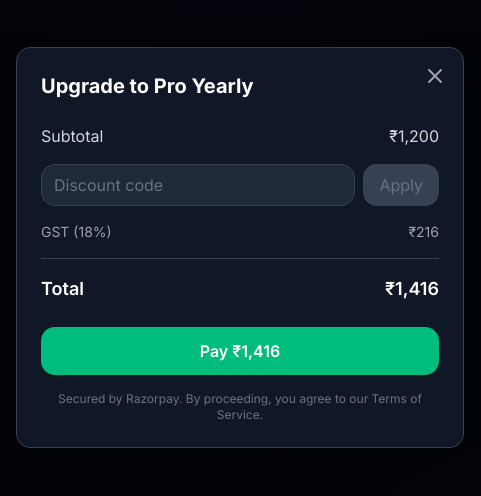
CheckoutModal › error handling › should display error when order creation fails
Click the button "Pay ₹1,416": [240, 350] box x1=41 y1=326 x2=439 y2=374
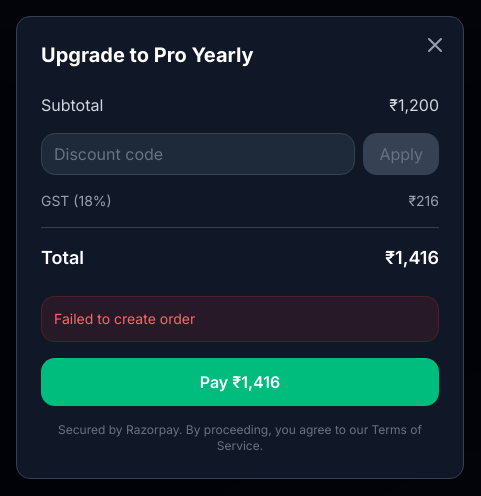
Expected: the text "Failed to create order" is shown, x1=41 y1=296 x2=439 y2=342
